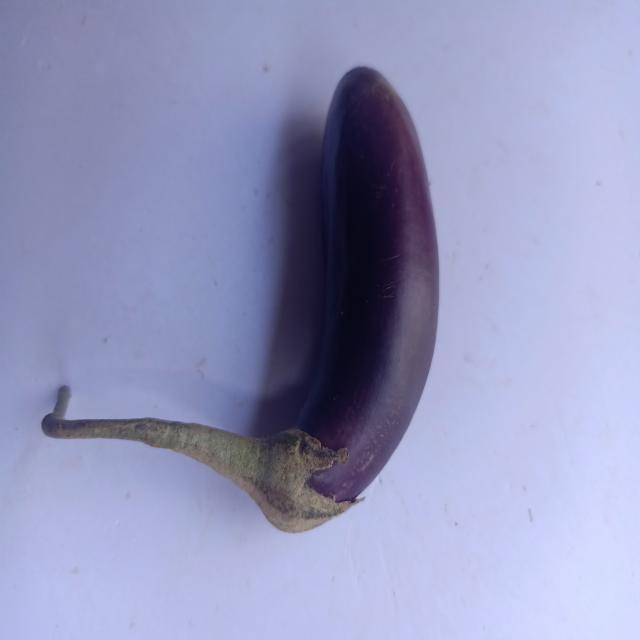Brinjal: (31, 52, 453, 548)
